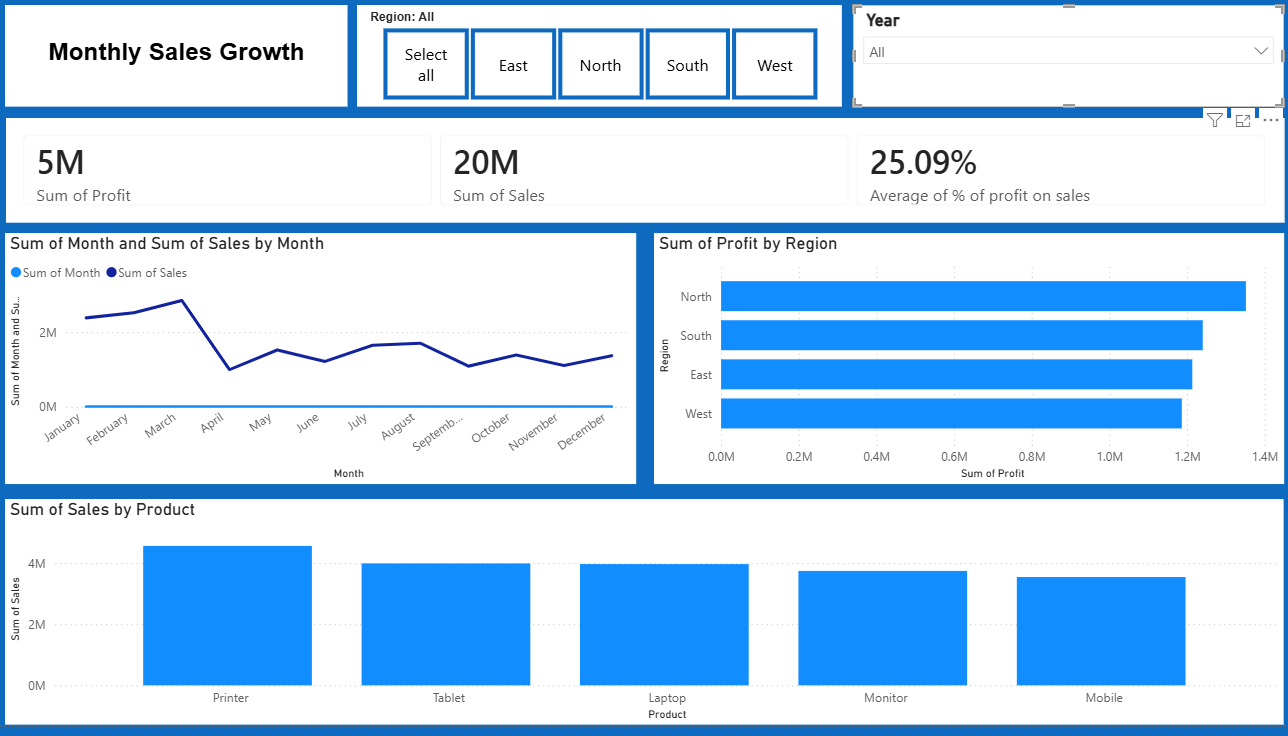

The page's visual inventory and layout, read from the dashboard file:
{"tool":"powerbi","page":{"name":"Page 1","canvas":[1280,720],"ordinal":0},"visuals":[{"type":"cardVisual","fields":{"Data":["Sum(sales_data.Profit)","Sum(sales_data.Sales)","Avg(sales_data.% of profit on sales)"]},"box":[10.8,123,1258.4,103.3],"z":0},{"type":"lineChart","fields":{"Y":["Sum(sales_data.Month)","Sum(sales_data.Sales)"],"Category":["sales_data.Order_Date.Variation.Date Hierarchy.Month"]},"box":[9.8,236.1,620.8,246.9],"z":1000},{"type":"barChart","fields":{"Category":["sales_data.Region"],"Y":["Sum(sales_data.Profit)"]},"box":[648.4,236.1,619.8,246.9],"z":2000},{"type":"columnChart","fields":{"Category":["sales_data.Product"],"Y":["Sum(sales_data.Sales)"]},"box":[9.8,497.8,1258.4,222.4],"z":3000},{"type":"slicer","fields":{"Values":["sales_data.Region"]},"box":[356.2,11.8,477.2,100.4],"z":4000},{"type":"slicer","fields":{"Values":["sales_data.Order_Date.Variation.Date Hierarchy.Year"]},"box":[844.2,11.8,424,100.4],"z":5000},{"type":"textbox","box":[9.8,11.8,337.5,100.4],"z":6000}]}

Visuals, with their boxes in screenshot pixels (x1, y1, x2, y2), scaled from the page's 1280x720 canvas onto the 1288x736 screenshot:
cardVisual - Sum(sales_data.Profit) x Sum(sales_data.Sales): <box>11,126,1277,231</box>
lineChart - Sum(sales_data.Month) x Sum(sales_data.Sales): <box>10,241,635,494</box>
barChart - sales_data.Region x Sum(sales_data.Profit): <box>652,241,1276,494</box>
columnChart - sales_data.Product x Sum(sales_data.Sales): <box>10,509,1276,735</box>
slicer - sales_data.Region: <box>358,12,839,115</box>
slicer - sales_data.Order_Date.Variation.Date Hierarchy.Year: <box>849,12,1276,115</box>
textbox: <box>10,12,349,115</box>
